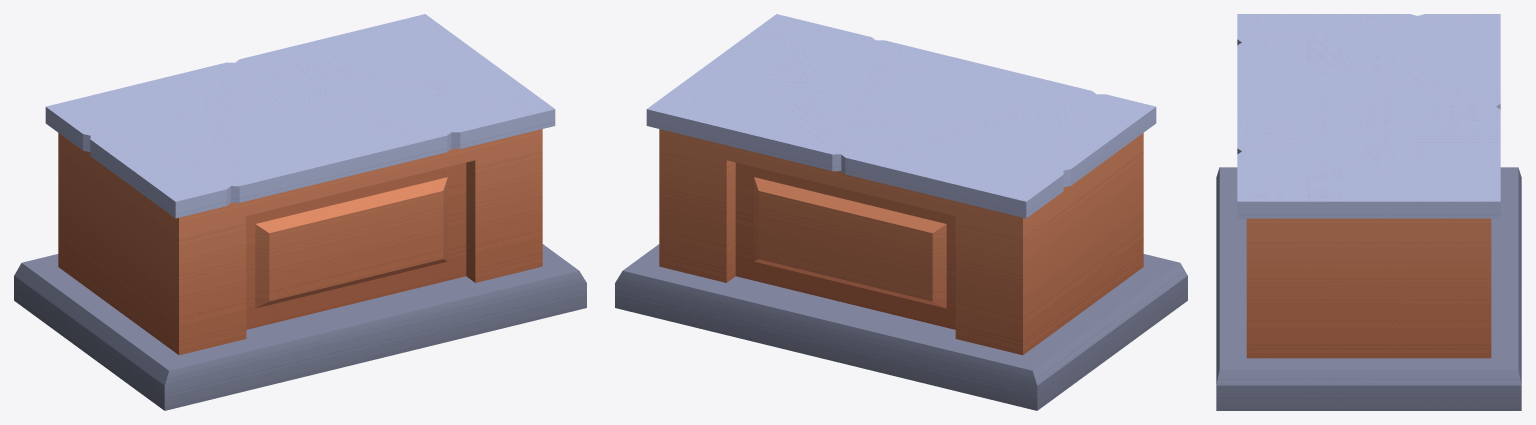
File: altar-wood.glb
The picture shows the model from 3 angles, left to right: view 1: azimuth 30°, elevation 25°; view 2: azimuth 150°, elevation 25°; view 3: azimuth 270°, elevation 25°; orthographic projection.
Visible parts, largest first — view 1: altar-wood; view 2: altar-wood; view 3: altar-wood.
Part boxes in pixels (x1=…): altar-wood: x1=14, y1=14, x2=586, y2=410; altar-wood: x1=615, y1=14, x2=1187, y2=410; altar-wood: x1=1216, y1=14, x2=1521, y2=410.
Size of the model in its own units: 3.17 by 1.41 by 1.96.
Materials: 1 (1 with a texture image).
